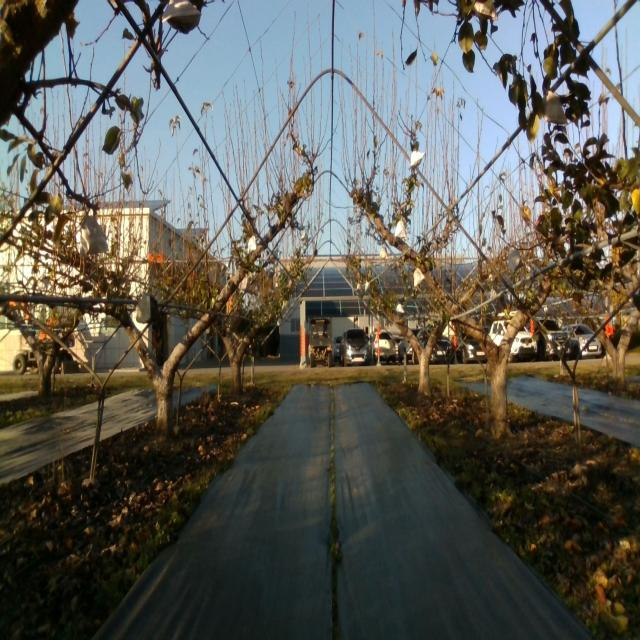pearbags: (78, 212, 108, 258), (161, 0, 202, 33), (542, 89, 567, 124), (474, 0, 498, 20), (410, 149, 425, 168), (508, 250, 522, 270), (394, 218, 406, 238)
